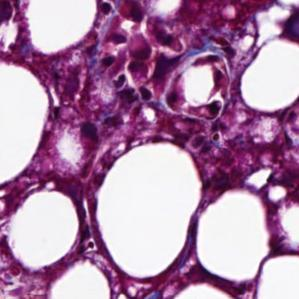inflammation: (92, 39, 159, 105), (188, 124, 242, 172)
